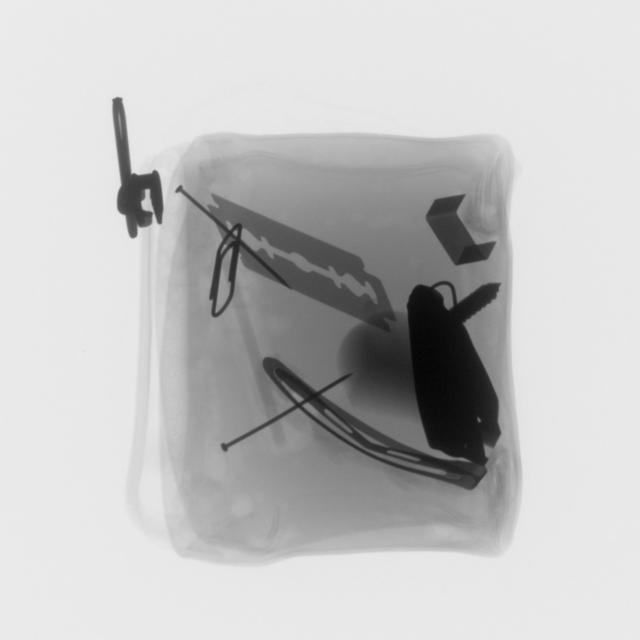pin: (210, 219, 241, 324)
razor: (211, 188, 402, 334), (427, 190, 499, 267)
snail: (215, 369, 352, 456), (448, 280, 502, 326)
